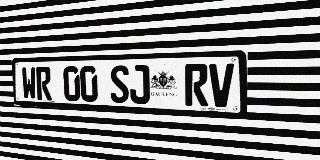0: (80, 66, 98, 102), (63, 66, 80, 102)
J: (129, 65, 150, 104)
R: (185, 64, 208, 106), (36, 67, 52, 100)
S: (110, 65, 129, 103)
V: (209, 63, 234, 107)
W: (21, 67, 37, 100)
